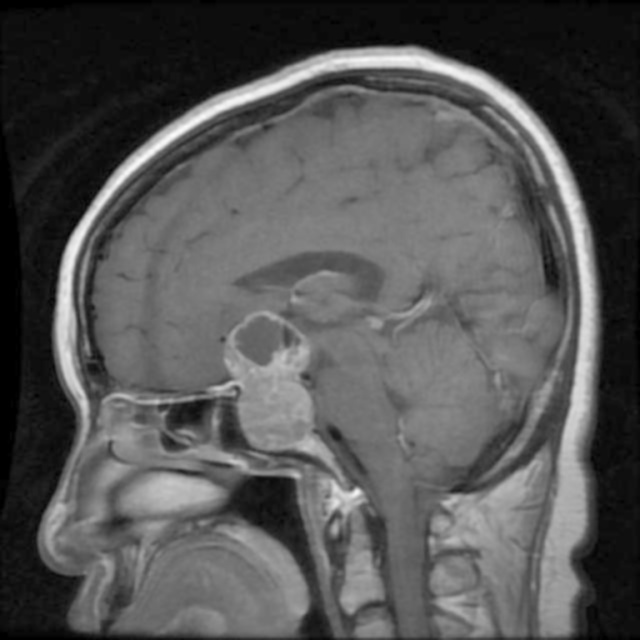no tumor: (222, 306, 320, 445)
